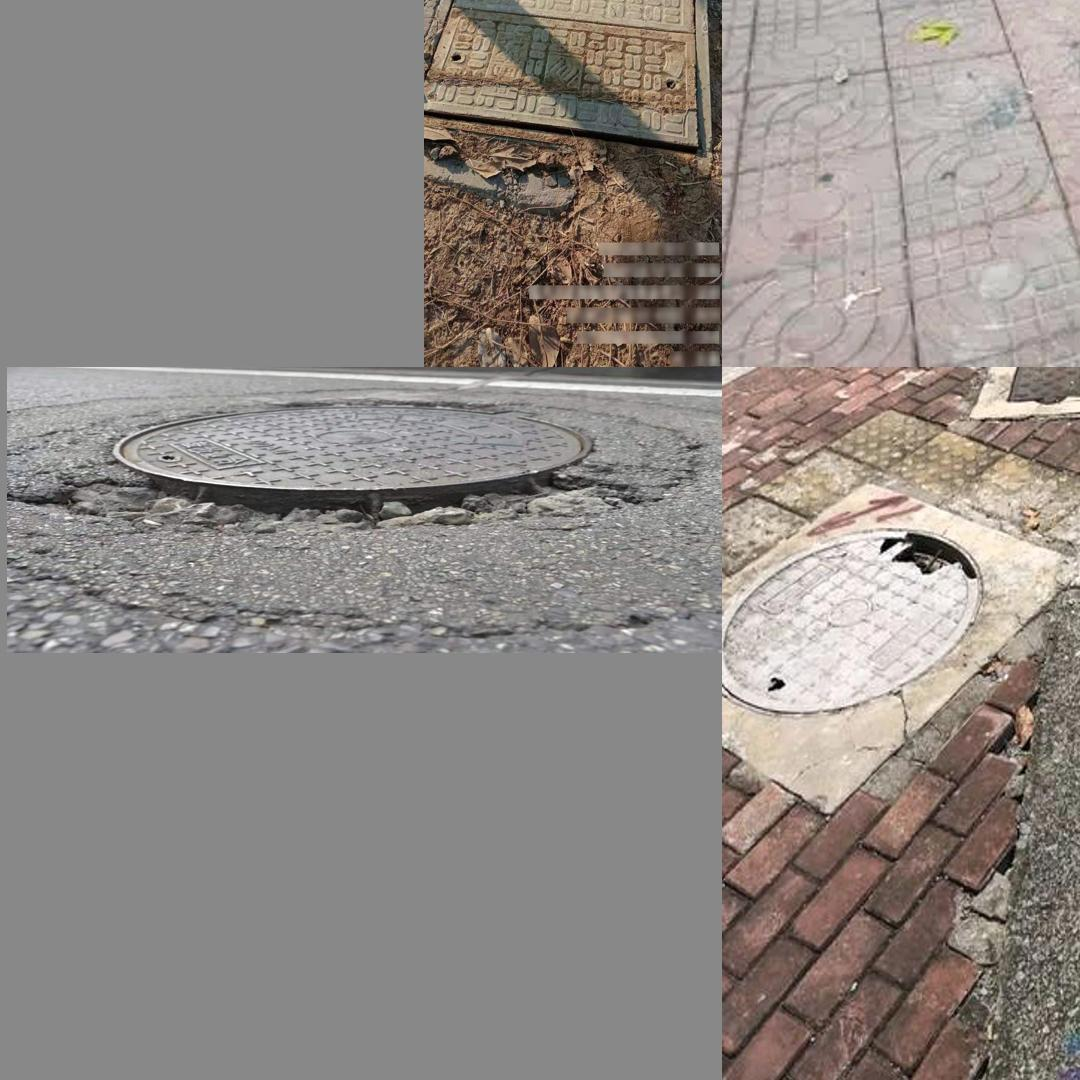circle: (17, 388, 701, 562), (963, 540, 1080, 1080), (424, 0, 717, 165)
